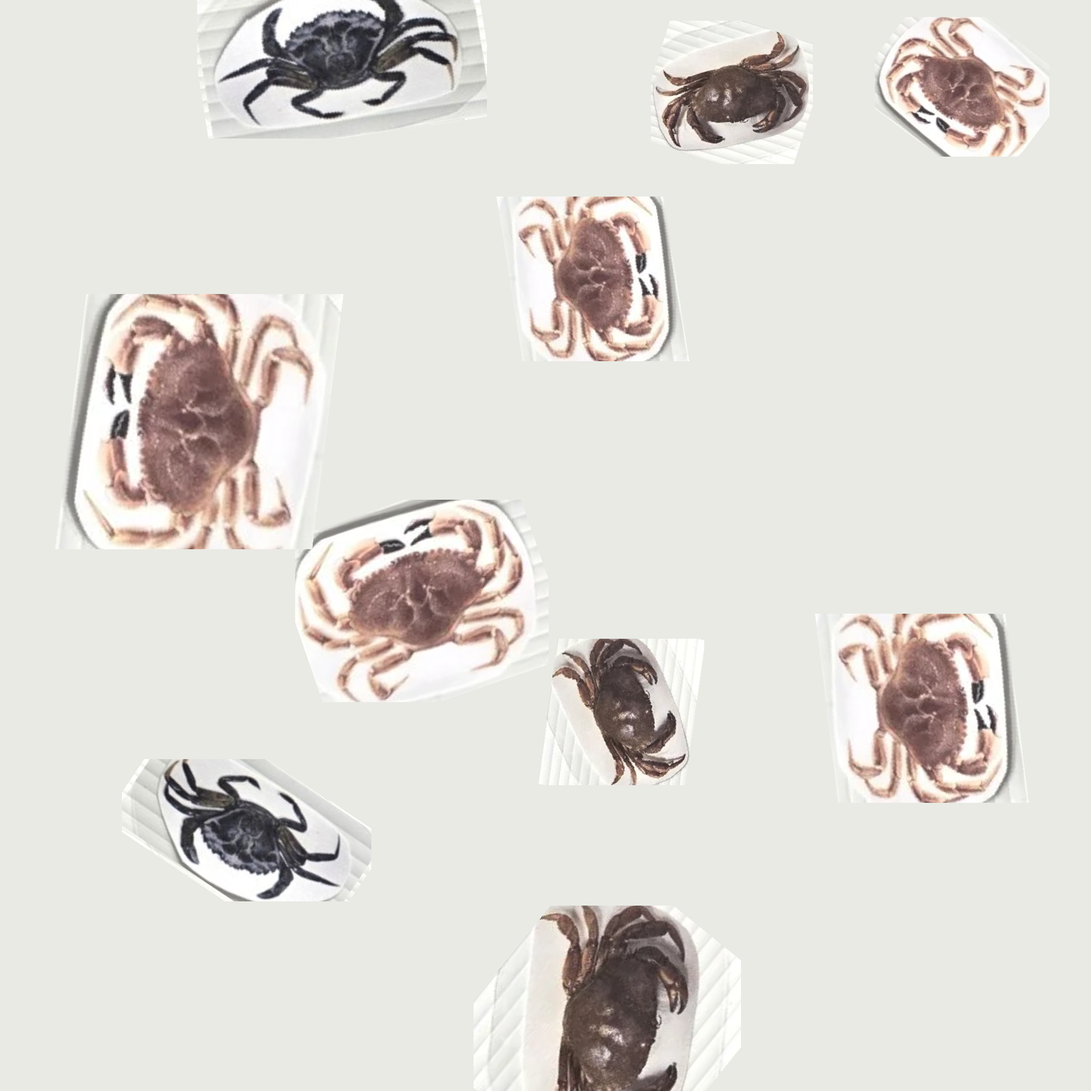evil: (157, 753, 358, 901), (219, 2, 460, 124)
normal: (88, 283, 309, 545), (298, 502, 515, 695), (829, 612, 1022, 812), (531, 908, 701, 1091), (514, 191, 684, 367), (879, 16, 1048, 157), (550, 634, 688, 789), (655, 45, 819, 145)
